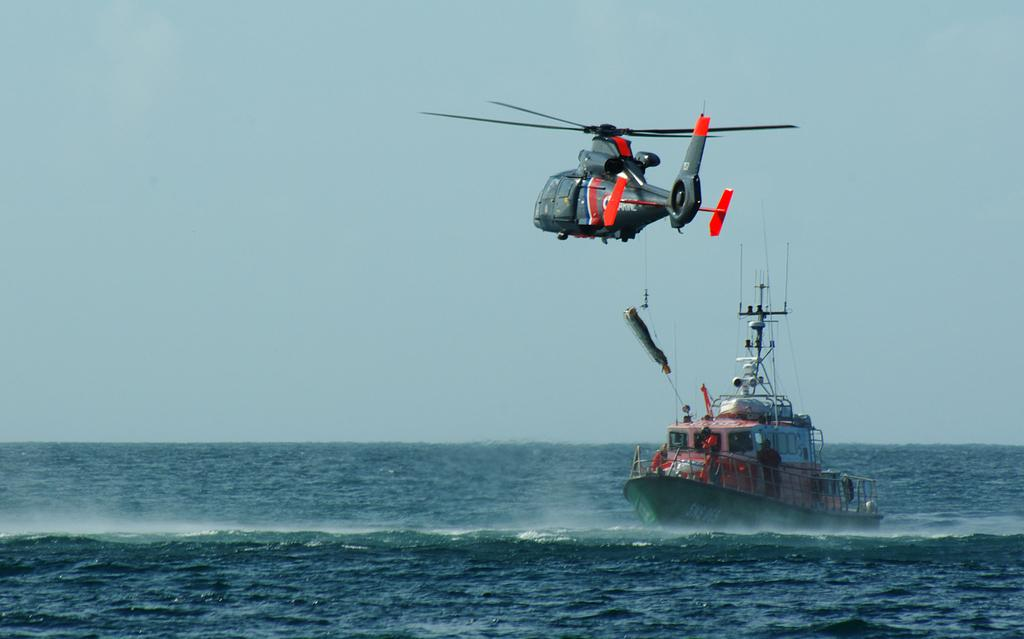PassengerShip: (620, 315, 888, 553)
